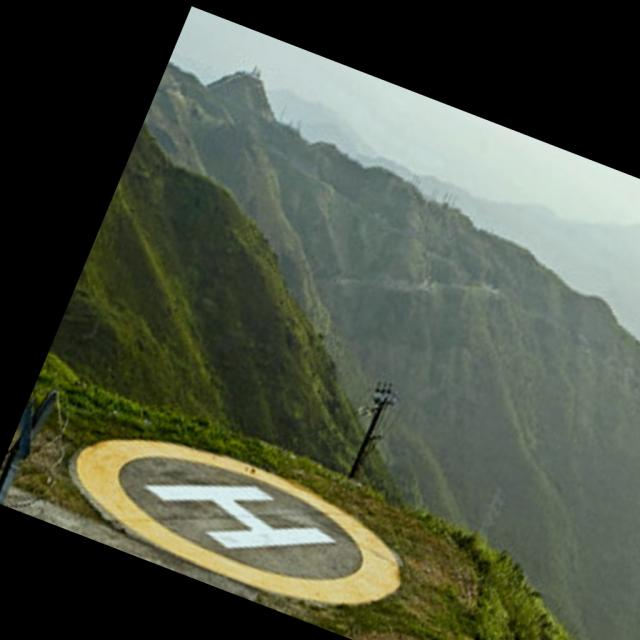helipad: (73, 433, 404, 608)
